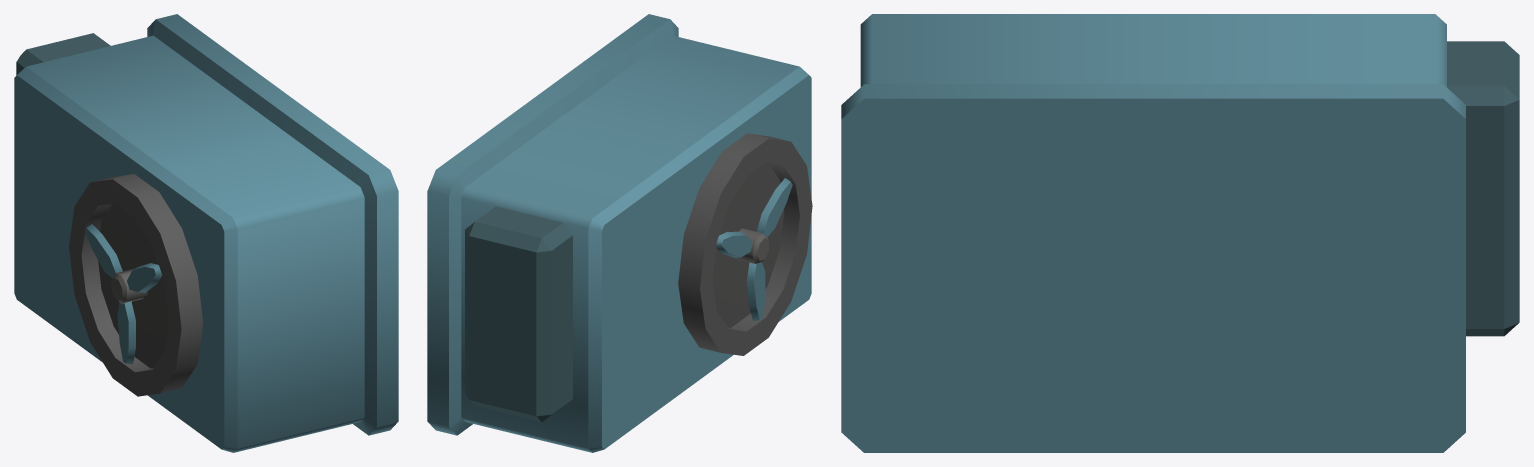
File: VENTS_1_C.gltf
3 renders of one model, left to right at view 1: azimuth 30°, elevation 25°; view 2: azimuth 150°, elevation 25°; view 3: azimuth 270°, elevation 25°, orthographic. The views are drawn at different scales.
Parts seen in each view (by area): view 1: VENTS_1_C, VENTS_1p_C; view 2: VENTS_1_C, VENTS_1p_C; view 3: VENTS_1_C.
Part boxes in pixels (<box>): VENTS_1_C: <box>14,14,398,452</box>; VENTS_1p_C: <box>85,224,162,364</box>; VENTS_1_C: <box>427,14,812,452</box>; VENTS_1p_C: <box>716,178,792,320</box>; VENTS_1_C: <box>841,14,1519,452</box>.
Bounding box in the file's own units: 0.5235 × 0.6712 × 1.16.
2 materials, 2 textured.
